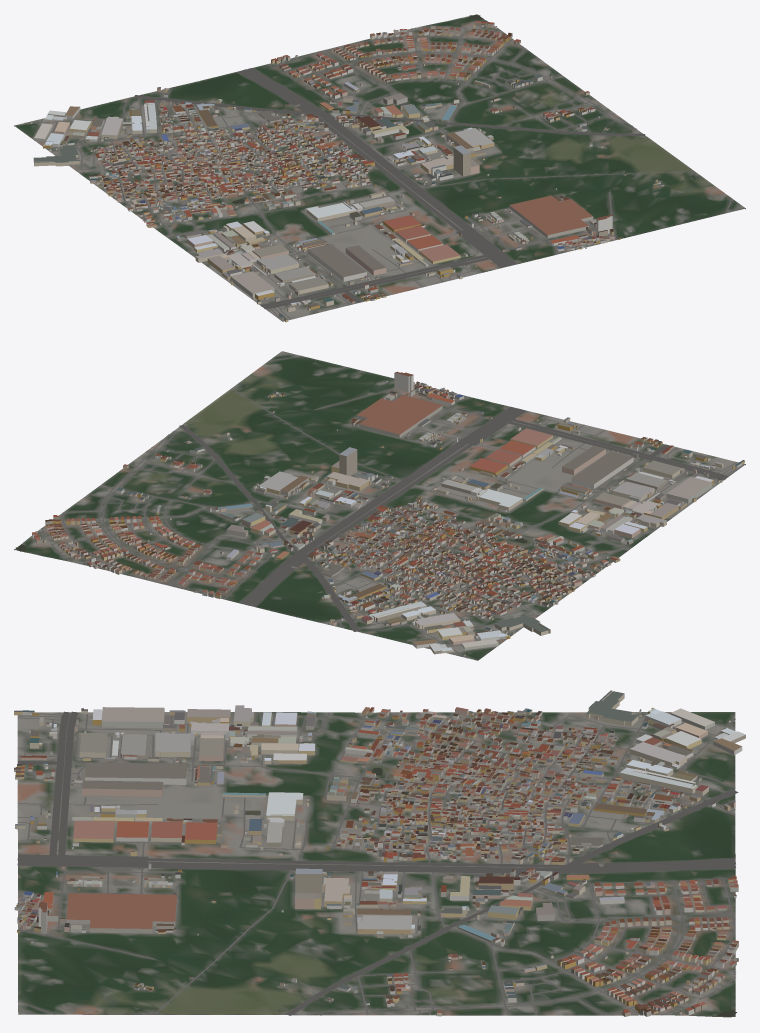
The picture shows the model from 3 angles, top to bottom: view 1: azimuth 30°, elevation 25°; view 2: azimuth 150°, elevation 25°; view 3: azimuth 270°, elevation 25°; orthographic projection. The views are drawn at different scales.
Parts seen in each view (by area): view 1: ground, buildings, roads; view 2: ground, buildings, roads; view 3: ground, buildings, roads.
Part boxes in pixels (left/top/right/bottom): ground: left=14, top=14, right=745, bottom=321; buildings: left=30, top=20, right=664, bottom=322; roads: left=25, top=26, right=732, bottom=321; ground: left=14, top=351, right=745, bottom=660; buildings: left=32, top=371, right=744, bottom=655; roads: left=41, top=355, right=744, bottom=658; ground: left=17, top=712, right=735, bottom=1017; buildings: left=14, top=690, right=745, bottom=1016; roads: left=17, top=711, right=738, bottom=1015.
Size of the model in its own units: 1484 by 71.64 by 1430.
